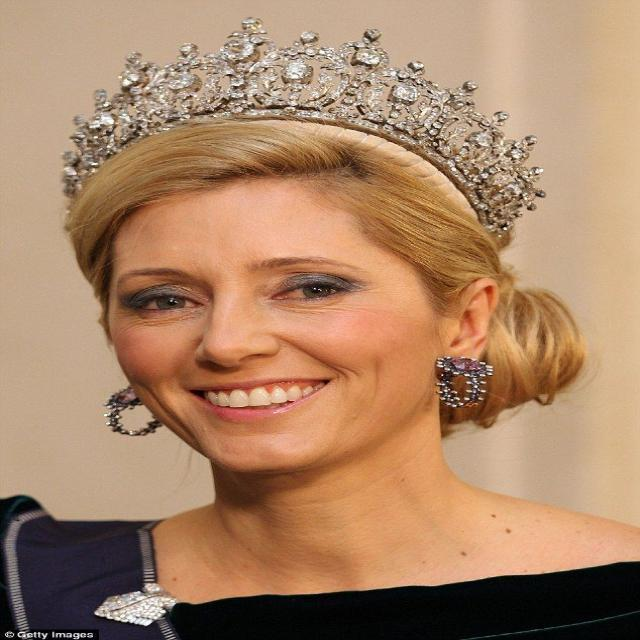Earring: (424, 329, 512, 429), (95, 378, 168, 450)
